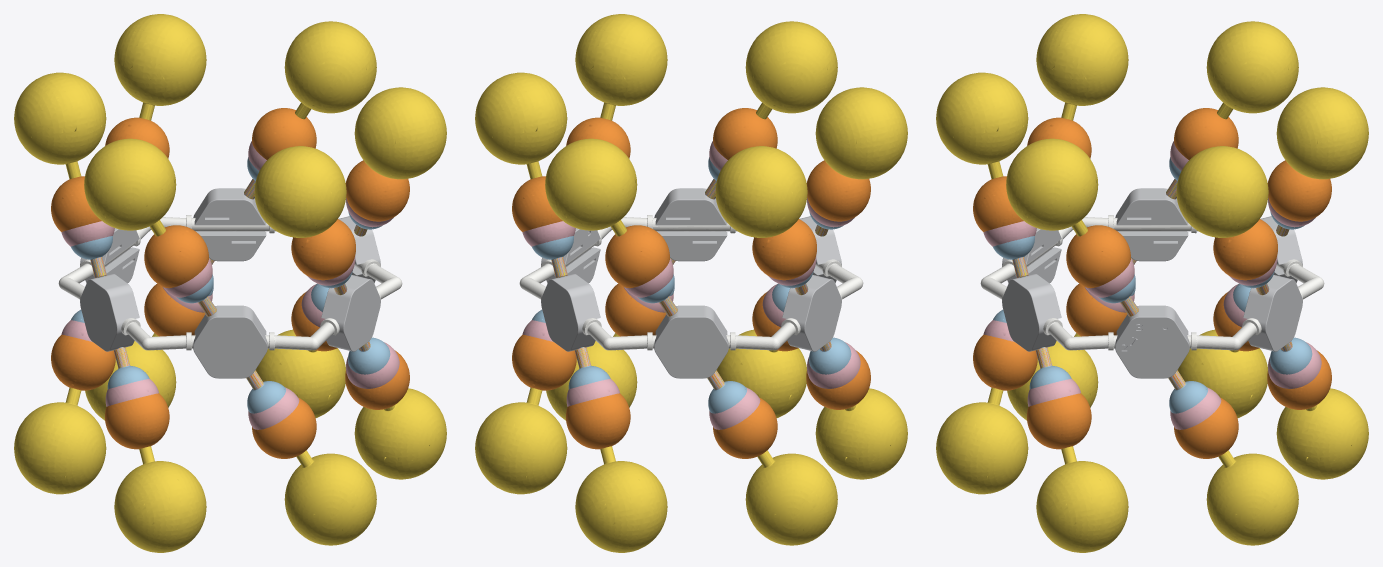
3 views of the same model, side by side, from view 1: azimuth 30°, elevation 25°; view 2: azimuth 150°, elevation 25°; view 3: azimuth 270°, elevation 25° (orthographic).
Parts seen in each view (by area): view 1: Arm_Bead27_L04, Arm_Bead27_U04, Arm_Bead27_U05, Arm_Bead27_U02, Arm_Bead27_L05, Arm_Bead27_L03, Arm_Bead27_U03, Arm_Bead27_U01, Arm_Bead27_U06, Arm_Bead27_L06, Ring_Frame, Hexagonal_Body_05 (+28 smaller); view 2: Arm_Bead27_L02, Arm_Bead27_U02, Arm_Bead27_U03, Arm_Bead27_U06, Arm_Bead27_L03, Arm_Bead27_L01, Arm_Bead27_U01, Arm_Bead27_U05, Arm_Bead27_U04, Arm_Bead27_L04, Ring_Frame, Hexagonal_Body_03 (+28 smaller); view 3: Arm_Bead27_L06, Arm_Bead27_U06, Arm_Bead27_U01, Arm_Bead27_U04, Arm_Bead27_L01, Arm_Bead27_L05, Arm_Bead27_U05, Arm_Bead27_U03, Arm_Bead27_U02, Arm_Bead27_L02, Ring_Frame, Hexagonal_Body_01 (+28 smaller).
Part boxes in pixels (box(x1,y1,x2,y2)): Arm_Bead27_L04: box(114, 347, 206, 552); Arm_Bead27_U04: box(14, 72, 106, 277); Arm_Bead27_U05: box(84, 138, 216, 316); Arm_Bead27_U02: box(244, 21, 376, 199); Arm_Bead27_L05: box(246, 370, 376, 545); Arm_Bead27_L03: box(14, 387, 106, 494); Arm_Bead27_U03: box(114, 14, 206, 120); Arm_Bead27_U01: box(354, 87, 446, 236); Arm_Bead27_U06: box(254, 146, 346, 294); Arm_Bead27_L06: box(354, 343, 446, 479); Ring_Frame: box(58, 215, 402, 350); Hexagonal_Body_05: box(193, 305, 267, 378); Arm_Bead27_L02: box(575, 347, 667, 552); Arm_Bead27_U02: box(475, 72, 567, 277); Arm_Bead27_U03: box(545, 138, 677, 316); Arm_Bead27_U06: box(705, 21, 837, 199); Arm_Bead27_L03: box(707, 370, 837, 545); Arm_Bead27_L01: box(475, 387, 567, 494); Arm_Bead27_U01: box(575, 14, 667, 120); Arm_Bead27_U05: box(815, 87, 907, 236); Arm_Bead27_U04: box(715, 146, 807, 294); Arm_Bead27_L04: box(815, 343, 907, 479); Ring_Frame: box(519, 215, 863, 350); Hexagonal_Body_03: box(654, 305, 728, 378); Arm_Bead27_L06: box(1036, 348, 1128, 552); Arm_Bead27_U06: box(936, 72, 1028, 277); Arm_Bead27_U01: box(1006, 138, 1138, 316); Arm_Bead27_U04: box(1166, 21, 1298, 199); Arm_Bead27_L01: box(1168, 370, 1298, 545); Arm_Bead27_L05: box(936, 387, 1028, 494); Arm_Bead27_U05: box(1036, 14, 1128, 120); Arm_Bead27_U03: box(1276, 87, 1368, 236); Arm_Bead27_U02: box(1176, 146, 1268, 294); Arm_Bead27_L02: box(1276, 343, 1368, 479); Ring_Frame: box(980, 215, 1324, 350); Hexagonal_Body_01: box(1115, 305, 1189, 378).
Size of the model in its own units: 0.1186 by 0.1288 by 0.1268.
